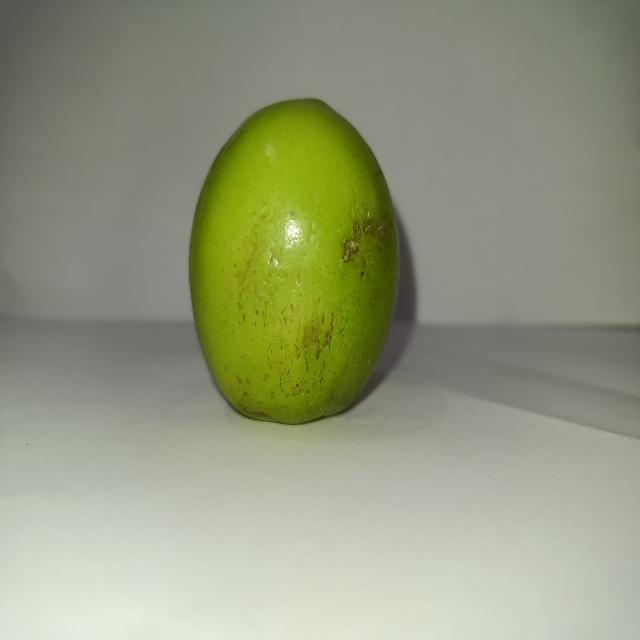Red: (186, 96, 401, 425)
